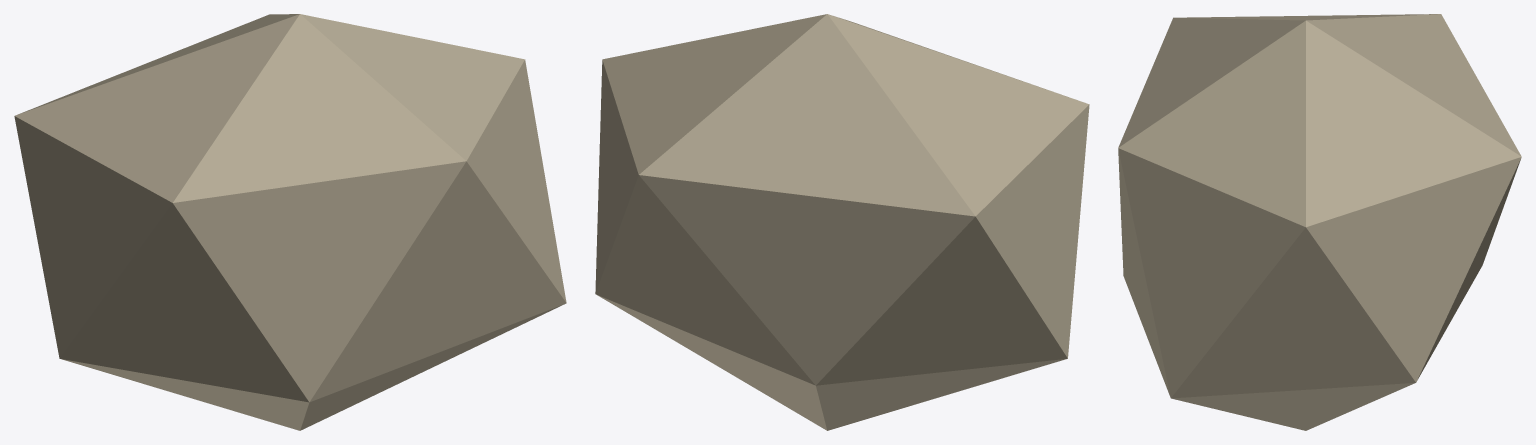
Rendered from SM_RUI_NAT_005_Boulder.glb.
3 renders of one model, left to right at view 1: azimuth 30°, elevation 25°; view 2: azimuth 150°, elevation 25°; view 3: azimuth 270°, elevation 25°, orthographic.
Visible parts, largest first — view 1: SM_RUI_NAT_005_Boulder; view 2: SM_RUI_NAT_005_Boulder; view 3: SM_RUI_NAT_005_Boulder.
Boxes of the visible parts, x1=… form: SM_RUI_NAT_005_Boulder: x1=14, y1=14, x2=566, y2=430; SM_RUI_NAT_005_Boulder: x1=595, y1=14, x2=1089, y2=430; SM_RUI_NAT_005_Boulder: x1=1118, y1=14, x2=1521, y2=430.
Bounding box in the file's own units: 1.25 × 1.07 × 0.9555.
